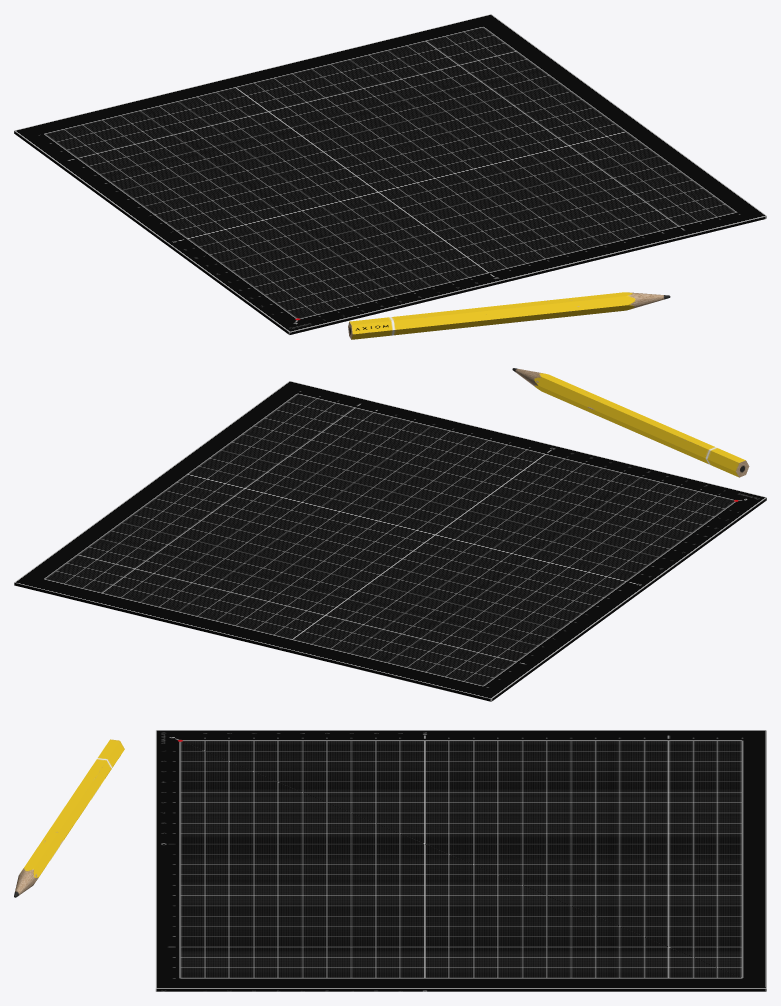
The model's file is environment_V01.gltf.
3 views of the same model, one above another, from view 1: azimuth 30°, elevation 25°; view 2: azimuth 150°, elevation 25°; view 3: azimuth 270°, elevation 25° (orthographic). The views are drawn at different scales.
Parts seen in each view (by area): view 1: measurement pad, pencil; view 2: measurement pad, pencil; view 3: measurement pad, pencil.
Part boxes in pixels (box(x1,y1,x2,y2)): measurement pad: box(14, 14, 766, 334); pencil: box(348, 292, 670, 339); measurement pad: box(14, 381, 766, 701); pencil: box(512, 368, 749, 477); measurement pad: box(155, 730, 766, 991); pencil: box(14, 739, 124, 897).
Size of what is drawn, in the model's own units: 0.25 by 0.00738 by 0.3079.
Materials: 2 (2 with a texture image).
